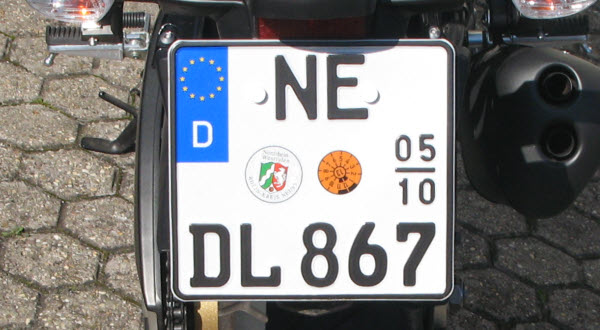license_plate: (167, 39, 454, 303)
